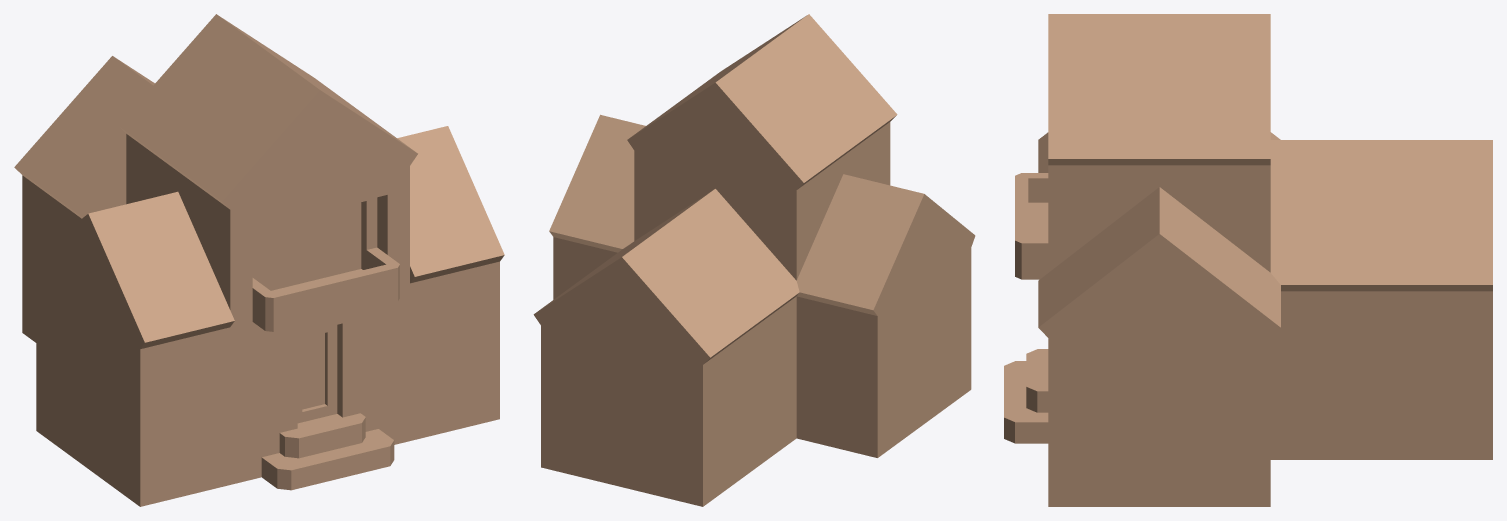
File: building-sample-house-c.obj
3 views of the same model, side by side, from view 1: azimuth 30°, elevation 25°; view 2: azimuth 150°, elevation 25°; view 3: azimuth 270°, elevation 25° (orthographic). The views are drawn at different scales.
Bounding box in the file's own units: 2 × 1.98 × 2.2.
